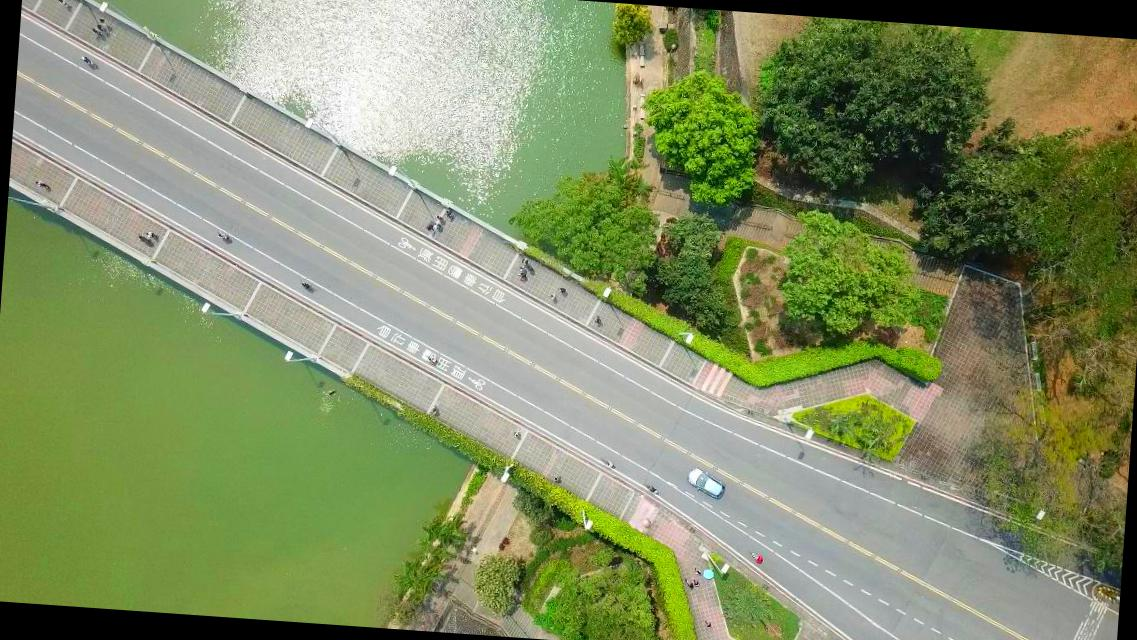vehicle: (684, 466, 725, 500)
